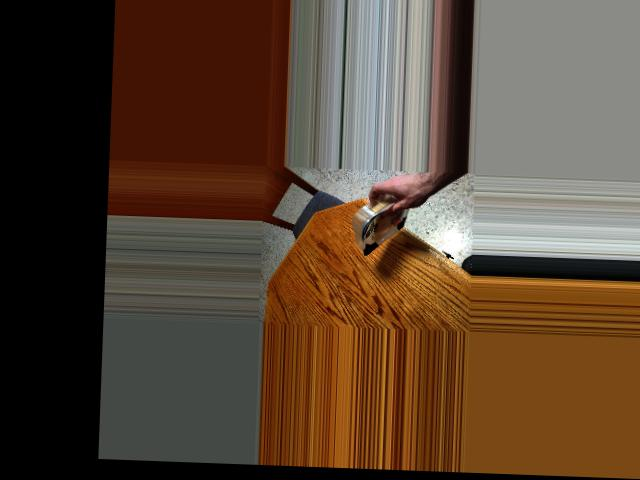cheese: (341, 196, 426, 257)
